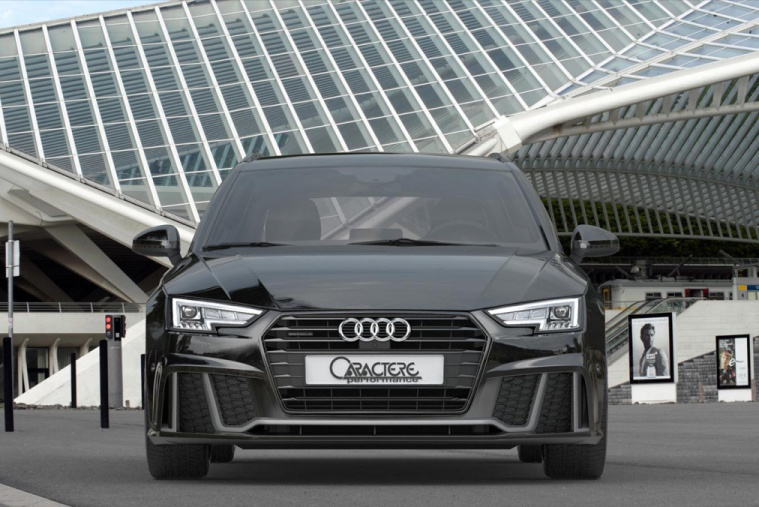audi: (332, 314, 418, 346)
